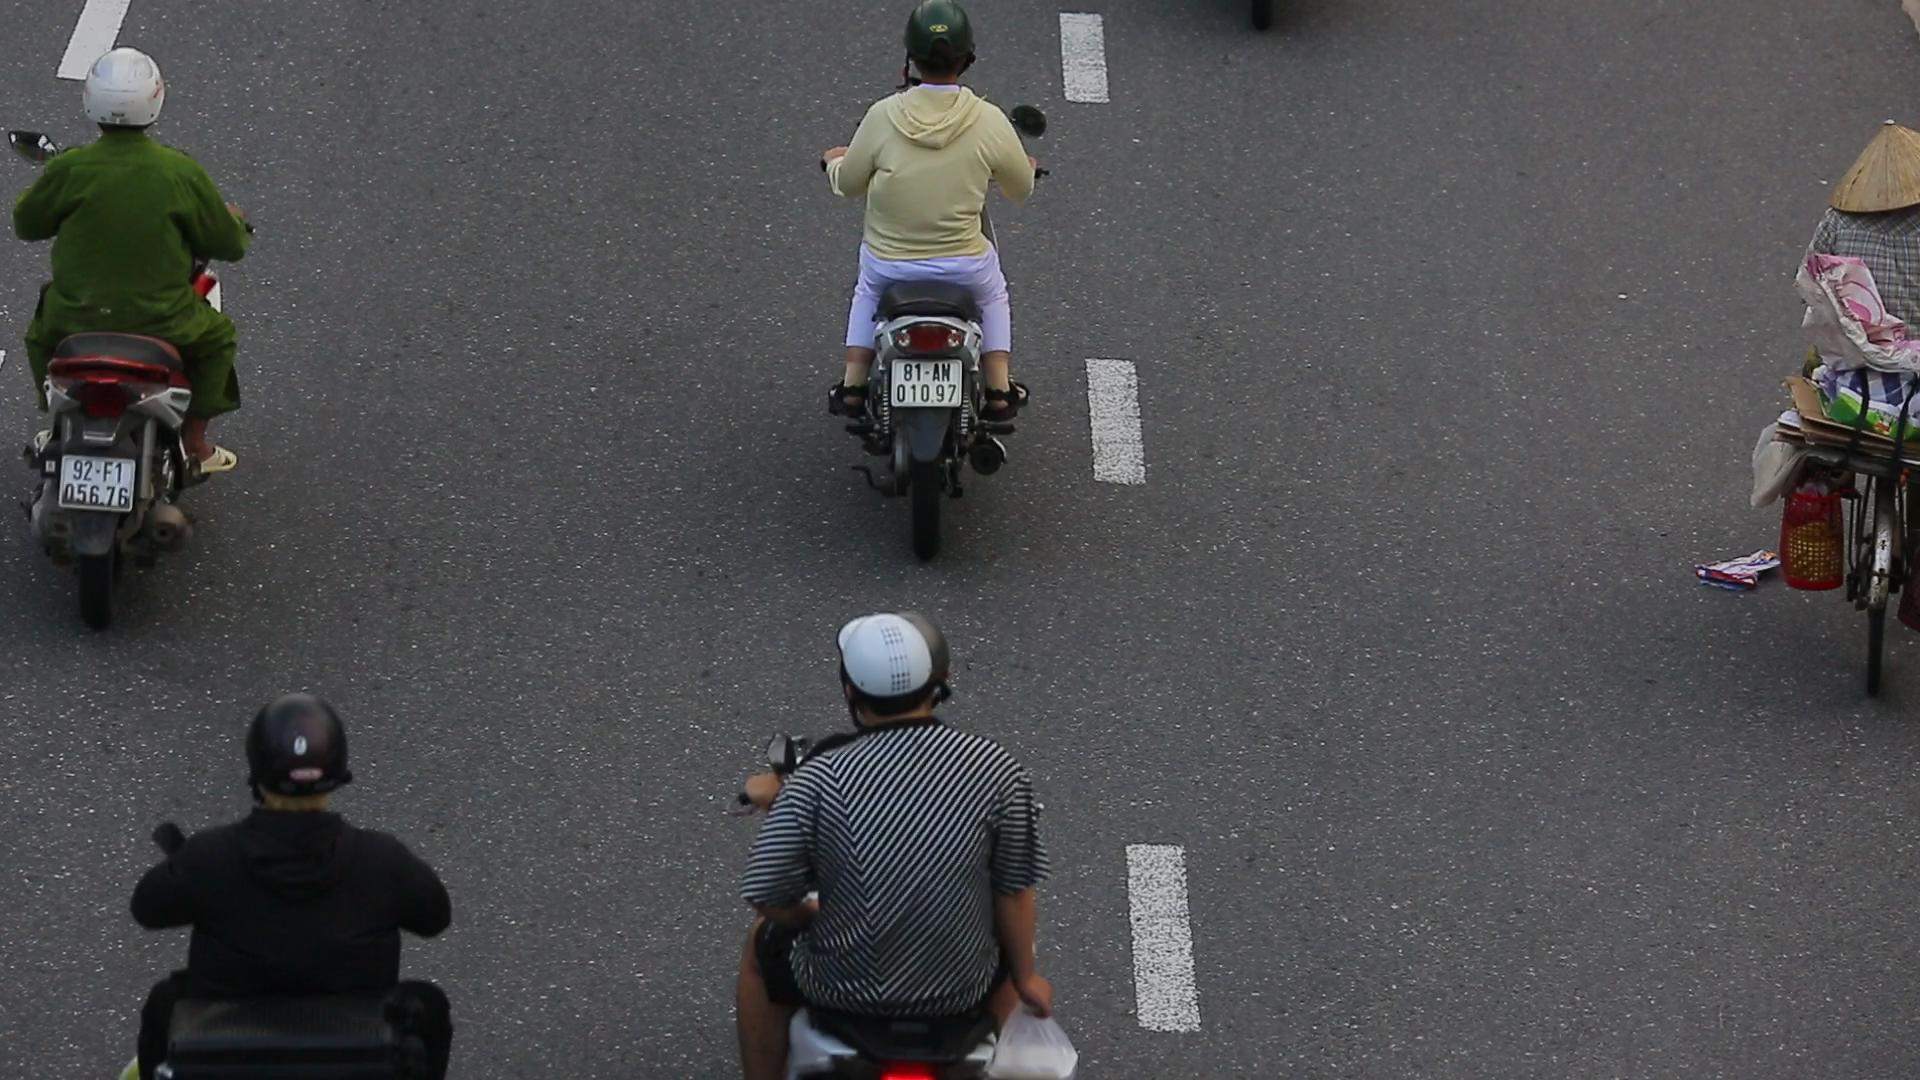motobike: (0, 44, 273, 642), (804, 0, 1063, 562)
